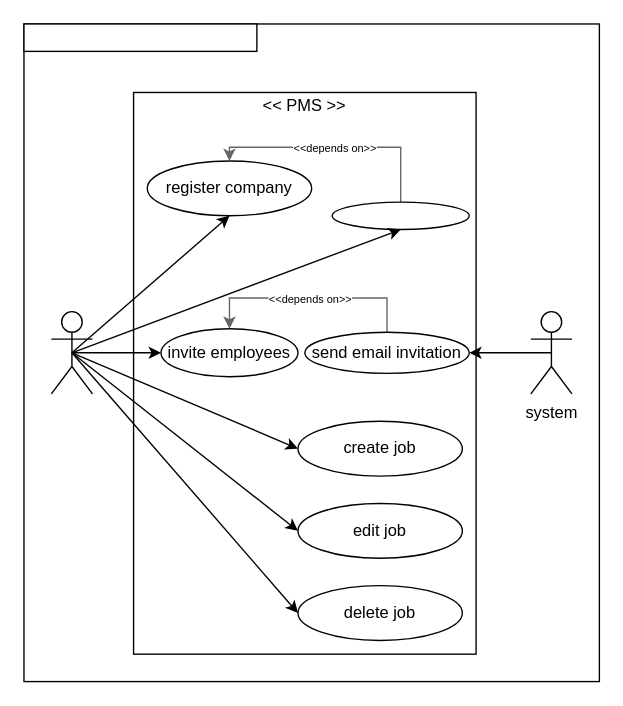
This 623x706 diagram has some shape labels left out. The box of each missing label's shape, as (x1, y1, x2, y2) in pixels:
login: (331, 201, 469, 229)
personnel manager: (50, 310, 92, 394)
personnel manager use case: (23, 23, 257, 51)
